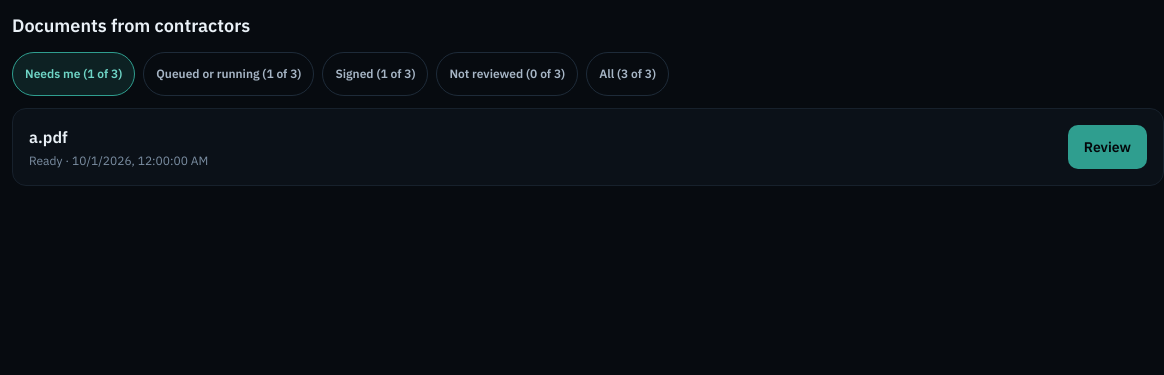
InboxList › starts on Needs me, counts each chip out of the documents listed, and filters by it
This screenshot has width=1164, height=375.
Expected: the text "a.pdf" is shown, [29,127,68,147]
Expected: the text "b.pdf" is not shown
Click the button "Signed (1 of 3)".
click(375, 74)  # box [322,52,428,96]
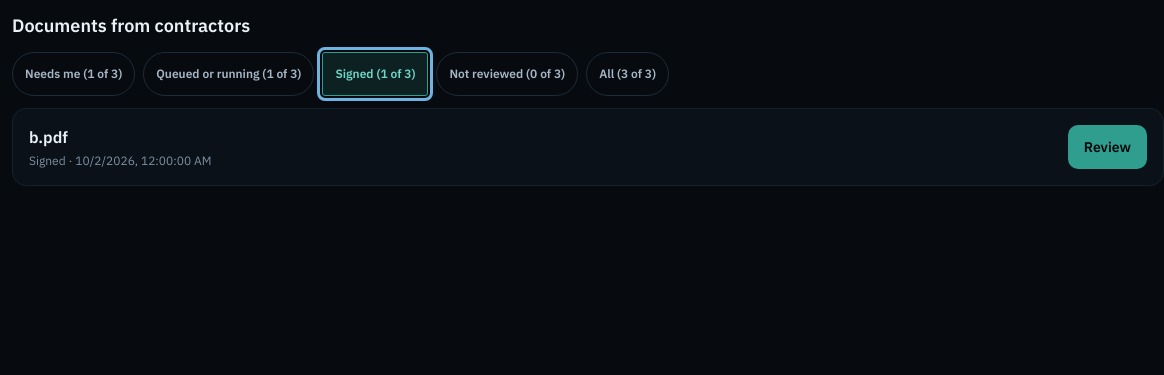
Expected: the text "b.pdf" is shown, [29,127,68,147]
Expected: the text "a.pdf" is gone
Click the button "Queued or running (1 of 3)".
click(229, 74)  # box [143,52,314,96]
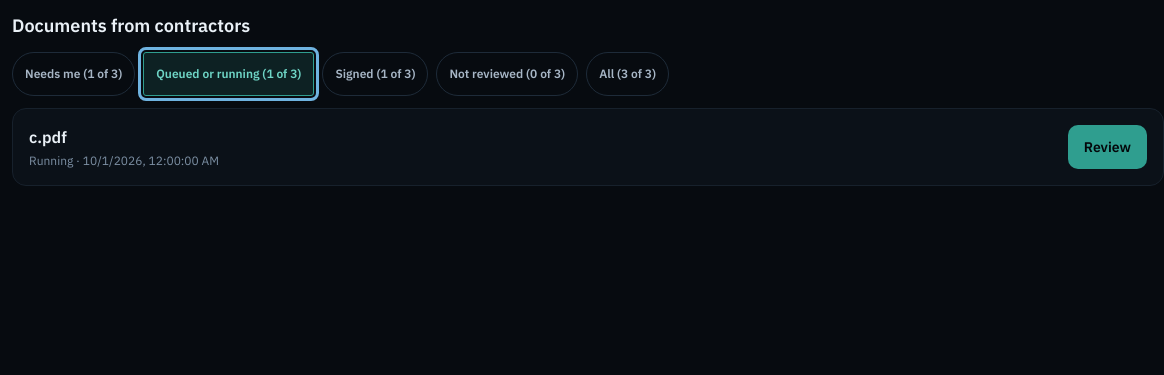
Expected: the text "c.pdf" is shown, [29,127,67,147]
Click the button "All (3 of 3)".
click(628, 74)  # box [586,52,669,96]
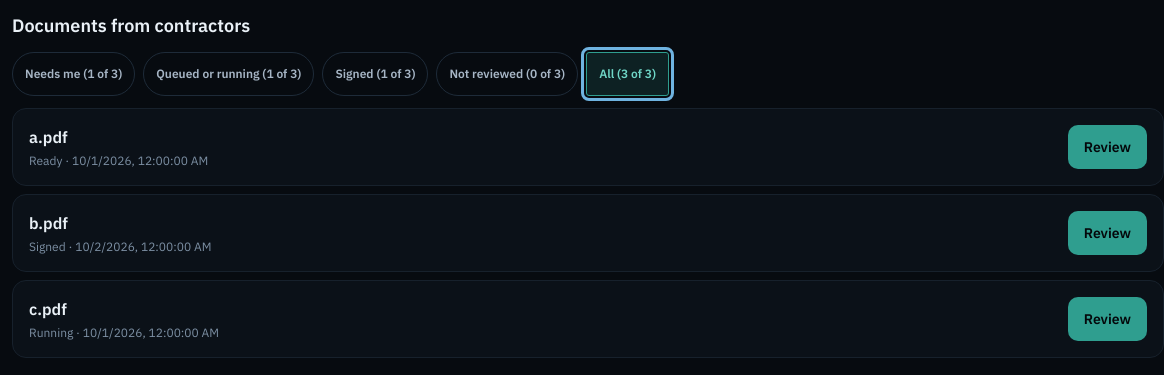
Expected: the number of elements with test id "inbox-state" is 3, [29,153,208,168]; [29,239,211,254]; [29,325,219,340]
